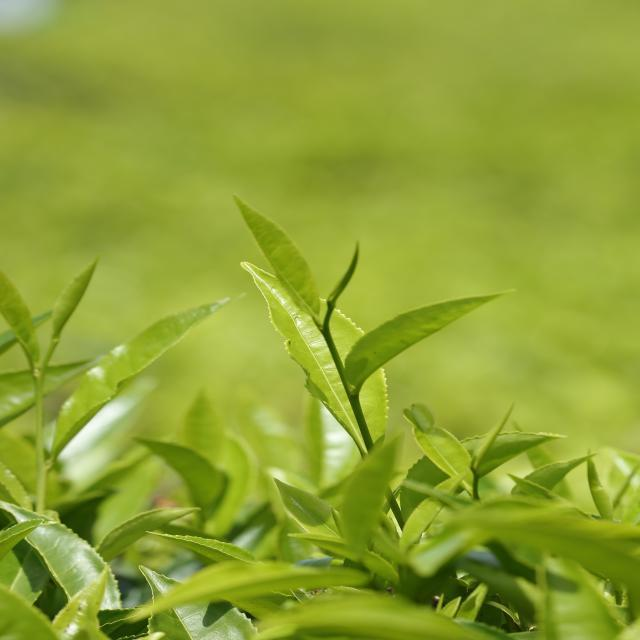Stem: (320, 326, 332, 340), (34, 374, 45, 389)
